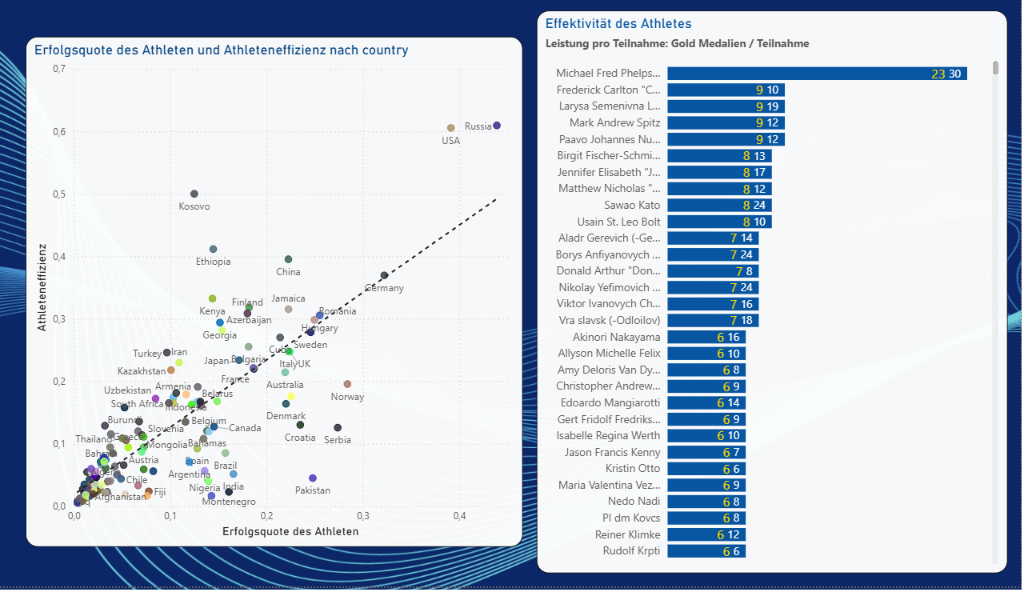

Layout of this report page (visuals, bound fields, positions):
{"tool":"powerbi","page":{"name":"Athleteneffizienz","canvas":[1280,720],"ordinal":3},"visuals":[{"type":"clusteredBarChart","title":"Effektivität des Athletes","fields":{"Category":["public dim_athlete.name"],"Y":["public fact_results.Gold"]},"box":[688,16,576,688],"z":0},{"type":"scatterChart","fields":{"X":["public dim_athlete_season.Erfolgsquote des Athleten"],"Y":["metrics.Athleteneffizienz"],"Series":["public dim_country.country"]},"box":[64,48,608,624],"z":1001}]}

Visuals, with their boxes in screenshot pixels (x1, y1, x2, y2), scaled from the page's 1280x720 canvas onto the 1022x590 screenshot:
"Effektivität des Athletes" clusteredBarChart: {"left": 549, "top": 13, "right": 1009, "bottom": 577}
scatterChart - public dim_athlete_season.Erfolgsquote des Athleten x metrics.Athleteneffizienz: {"left": 51, "top": 39, "right": 537, "bottom": 551}
